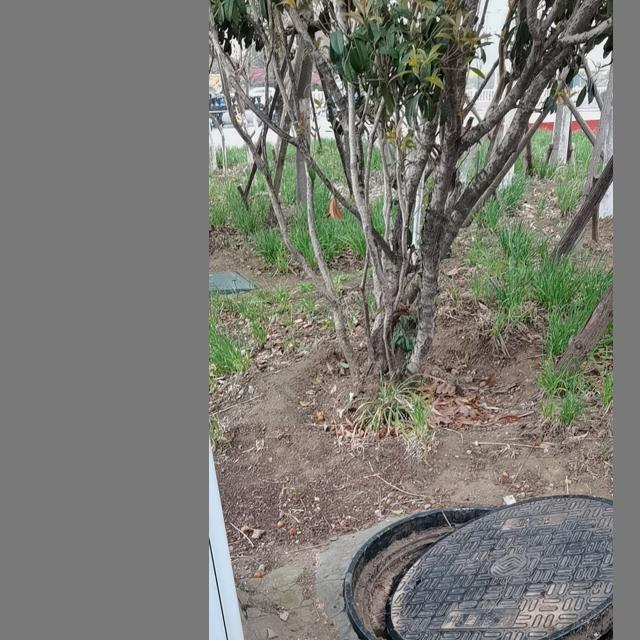uncovered: (342, 492, 612, 640)
